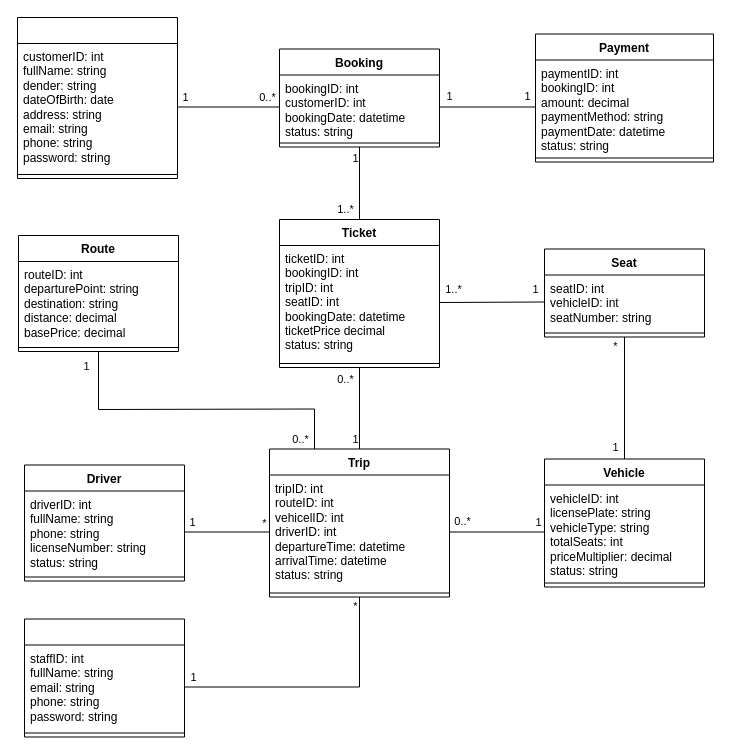
The diagram is 731 pixels wide and 755 high, and some of its shapes have lost their labels. The box of each missing label's shape, as (x1, y1, x2, y2) in pixels:
KhachHang: (16, 16, 178, 178)
OperationStaff: (24, 618, 184, 737)
